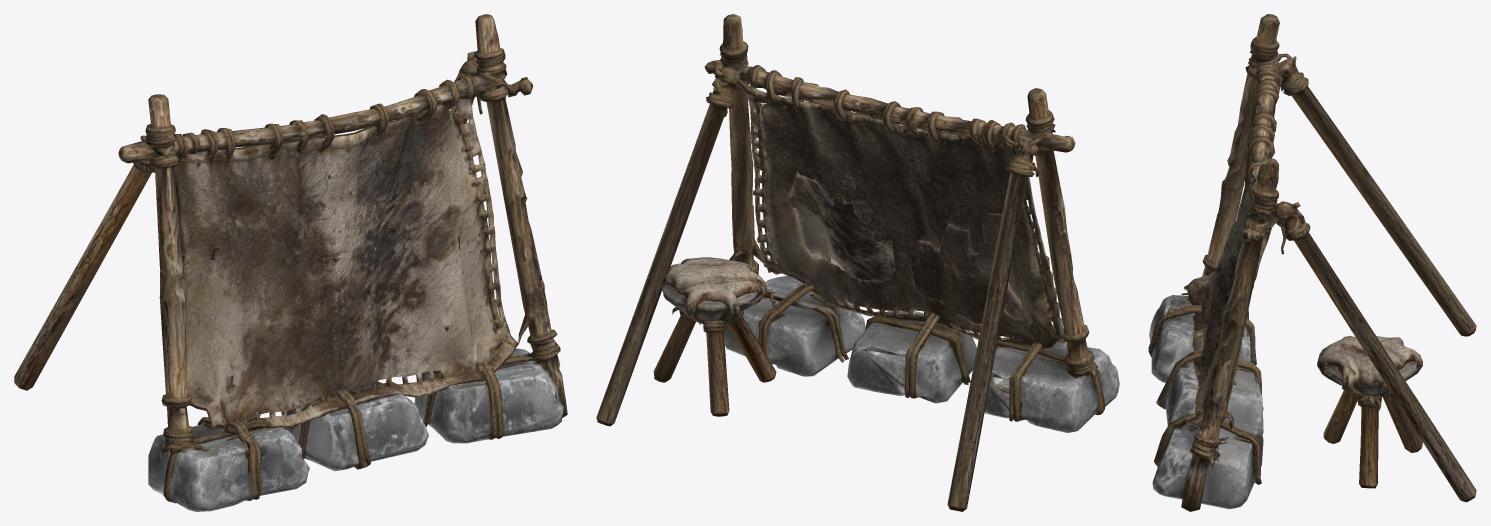
File: kf_windbreak.glb
3 renders of one model, left to right at view 1: azimuth 30°, elevation 25°; view 2: azimuth 150°, elevation 25°; view 3: azimuth 270°, elevation 25°, orthographic. The views are drawn at different scales.
Visible parts, largest first — view 1: kf_windbreak; view 2: kf_windbreak; view 3: kf_windbreak.
Part boxes in pixels (box(x1,y1,x2,y2)): kf_windbreak: box(14, 14, 567, 511); kf_windbreak: box(596, 14, 1119, 511); kf_windbreak: box(1148, 14, 1476, 511).
Bounding box in the file's own units: 1.91 × 1.7 × 1.49.
1 material, 1 textured.
